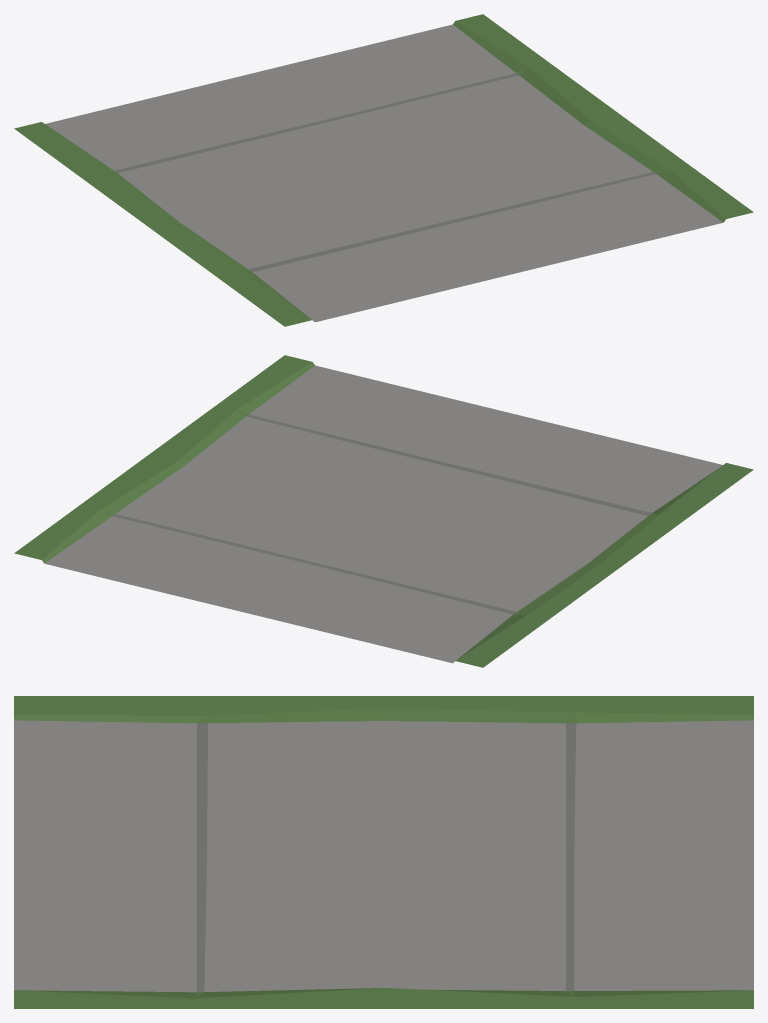
The model's file is SM_Env_Driveway_Wide_01.fbx.
3 views of the same model, one above another, from view 1: azimuth 30°, elevation 25°; view 2: azimuth 150°, elevation 25°; view 3: azimuth 270°, elevation 25° (orthographic). The views are drawn at different scales.
Visible parts, largest first — view 1: SM_Env_Driveway_Wide_01; view 2: SM_Env_Driveway_Wide_01; view 3: SM_Env_Driveway_Wide_01.
Boxes of the visible parts, x1,y1,x2,y2 form: SM_Env_Driveway_Wide_01: (14,14,753,326); SM_Env_Driveway_Wide_01: (14,355,753,667); SM_Env_Driveway_Wide_01: (14,696,753,1008).
Bounding box in the file's own units: 500 × 4.07 × 500.
